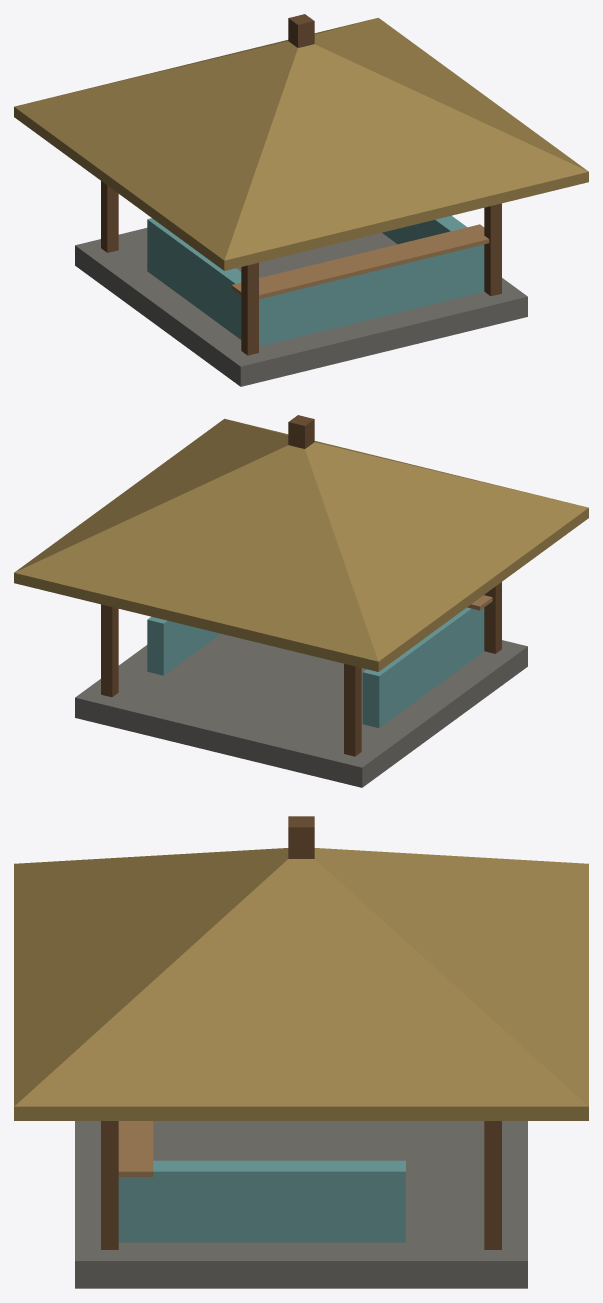
The model's file is quiosque_a.glb.
3 views of the same model, one above another, from view 1: azimuth 30°, elevation 25°; view 2: azimuth 150°, elevation 25°; view 3: azimuth 270°, elevation 25° (orthographic). The views are drawn at different scales.
Parts seen in each view (by area): view 1: quiosque_a; view 2: quiosque_a; view 3: quiosque_a.
Boxes of the visible parts, <box> form: quiosque_a: <box>14,14,588,386</box>; quiosque_a: <box>14,415,588,787</box>; quiosque_a: <box>14,816,588,1288</box>.
Bounding box in the file's own units: 6.6 × 4.7 × 6.6.
